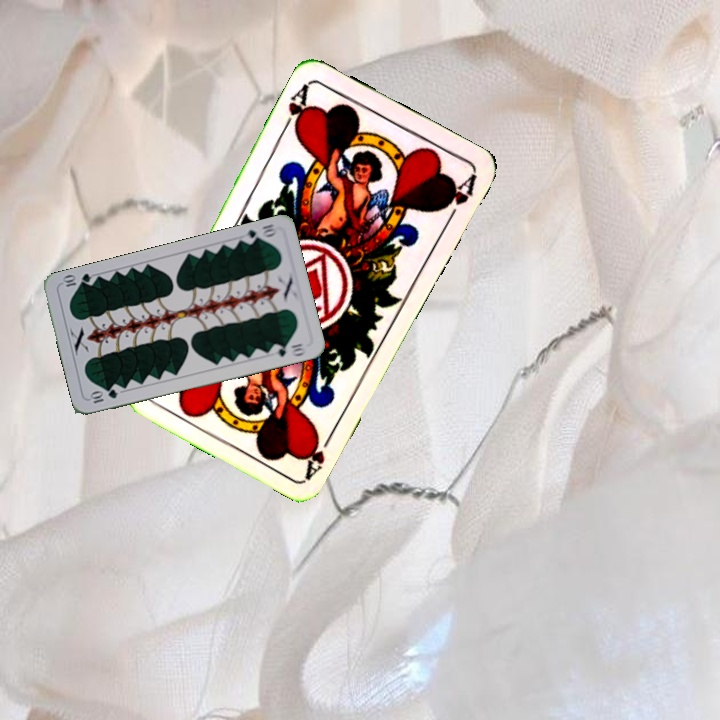G10: (239, 220, 280, 247), (86, 385, 120, 406)
HA: (277, 79, 313, 138), (301, 425, 338, 480)
